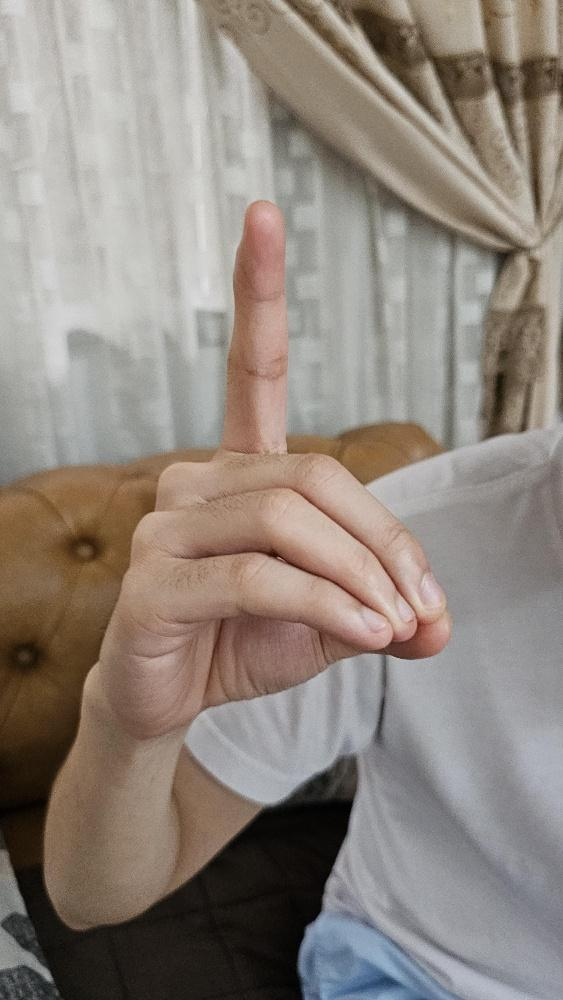d: (100, 195, 456, 736)
